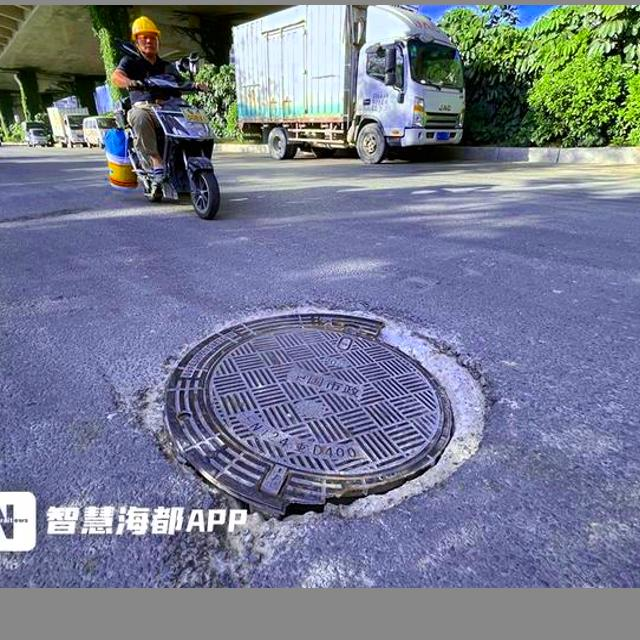circle: (101, 278, 540, 544)
